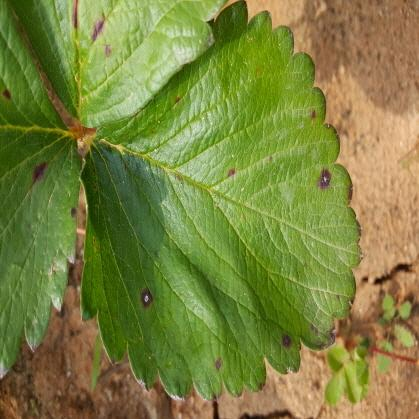Leaf Spot: (76, 0, 365, 401), (0, 0, 83, 379), (8, 0, 228, 129)
